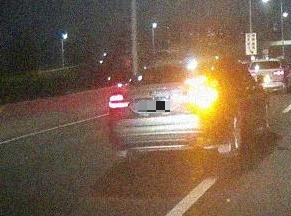L_light: (108, 93, 131, 108)
R_light: (173, 88, 219, 108)
T_light: (158, 66, 171, 69)
night-right: (108, 62, 222, 157)
plate_1: (138, 101, 170, 112)
